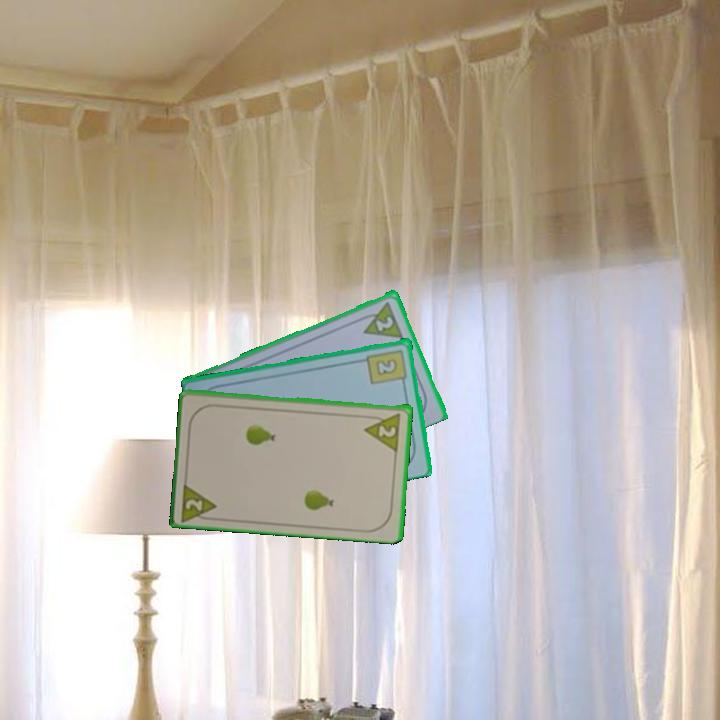2b: (364, 346, 410, 388)
2p: (178, 478, 220, 523), (372, 312, 396, 334), (375, 420, 399, 440)
